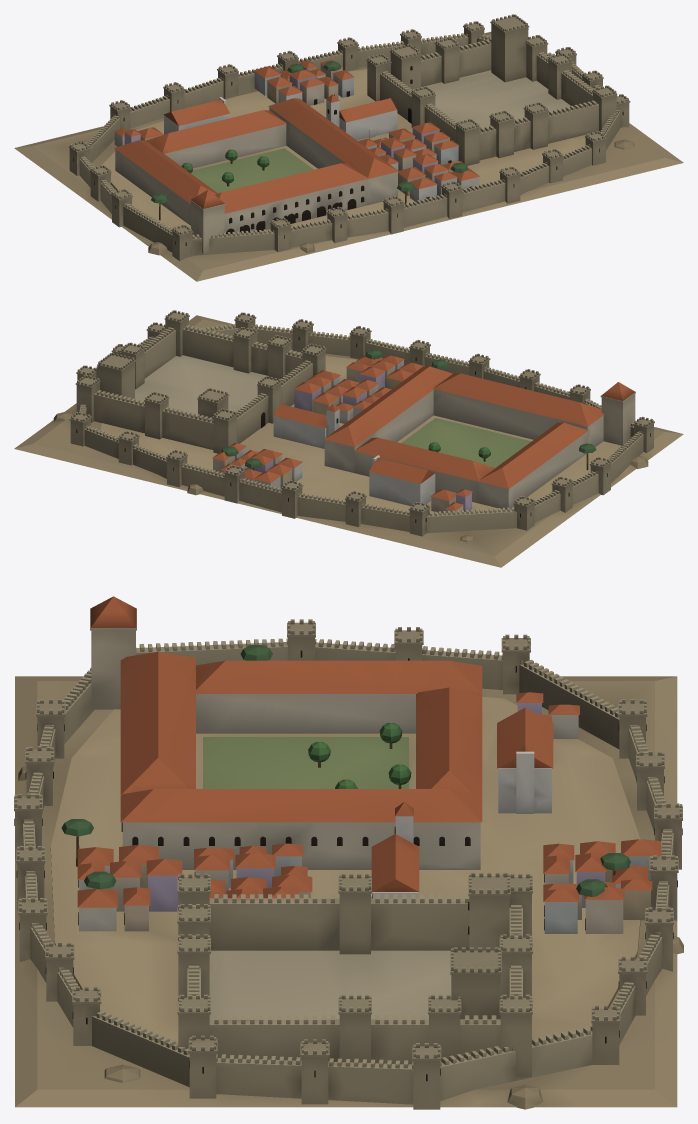
The model's file is castelo.glb.
3 views of the same model, one above another, from view 1: azimuth 30°, elevation 25°; view 2: azimuth 150°, elevation 25°; view 3: azimuth 270°, elevation 25° (orthographic). The views are drawn at different scales.
Visible parts, largest first — view 1: p2_castle, p1_walls, p0_hill; view 2: p2_castle, p1_walls, p0_hill; view 3: p2_castle, p0_hill, p1_walls.
Part boxes in pixels (x1,y1,x2,y2): p2_castle: (114,14,617,253); p1_walls: (69,21,630,261); p0_hill: (14,32,683,281); p2_castle: (75,310,635,509); p1_walls: (69,312,654,536); p0_hill: (14,315,683,567); p2_castle: (61,596,630,1077); p0_hill: (15,676,683,1109); p1_walls: (14,619,682,1109).
Bounding box in the file's own units: 232 × 28.19 × 150.
